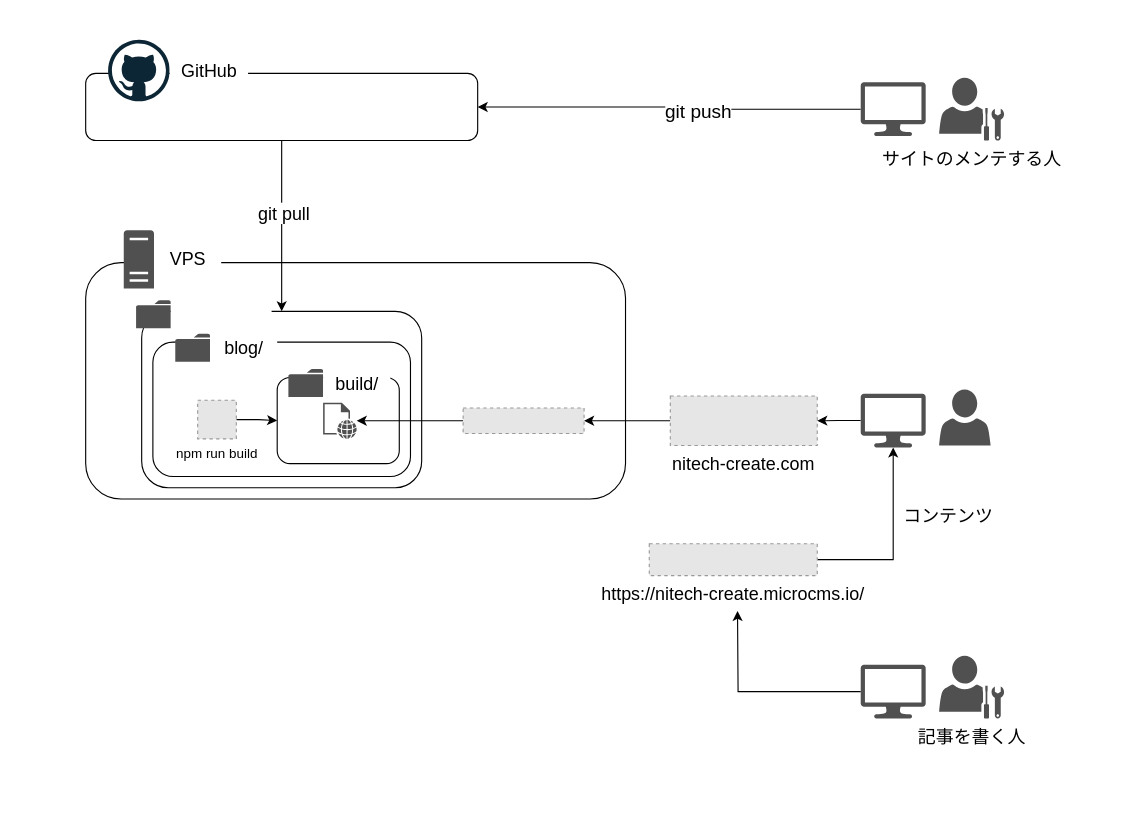
The diagram is 1136 pixels wide and 818 high, and some of its shapes have lost their labels. Grey dashed boxes stand in for pictures. Each missing label, with the centre of its shape:
"index.html" goes at (x=339, y=420).
"nitech-create / niC-hp" goes at (x=281, y=106).
"~/niC-hp/" goes at (x=220, y=313).
"サイトを見る人" goes at (x=964, y=417).
